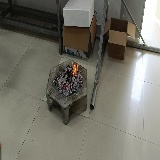fire: (72, 61, 78, 75)
